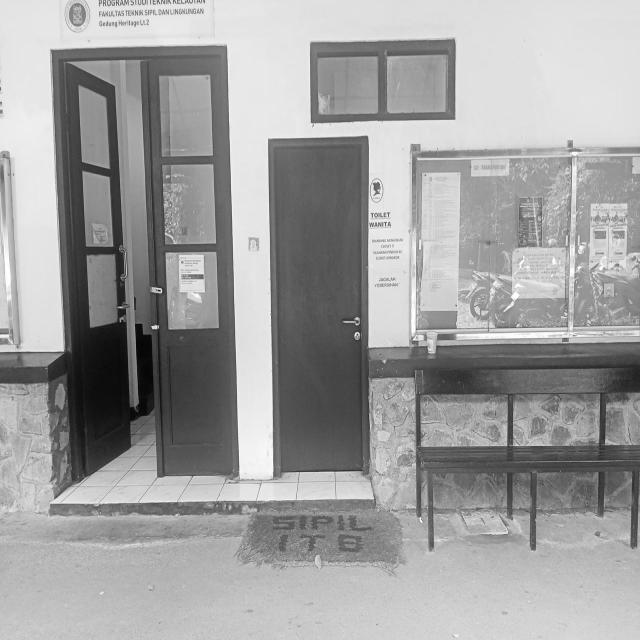door: (265, 132, 372, 476)
